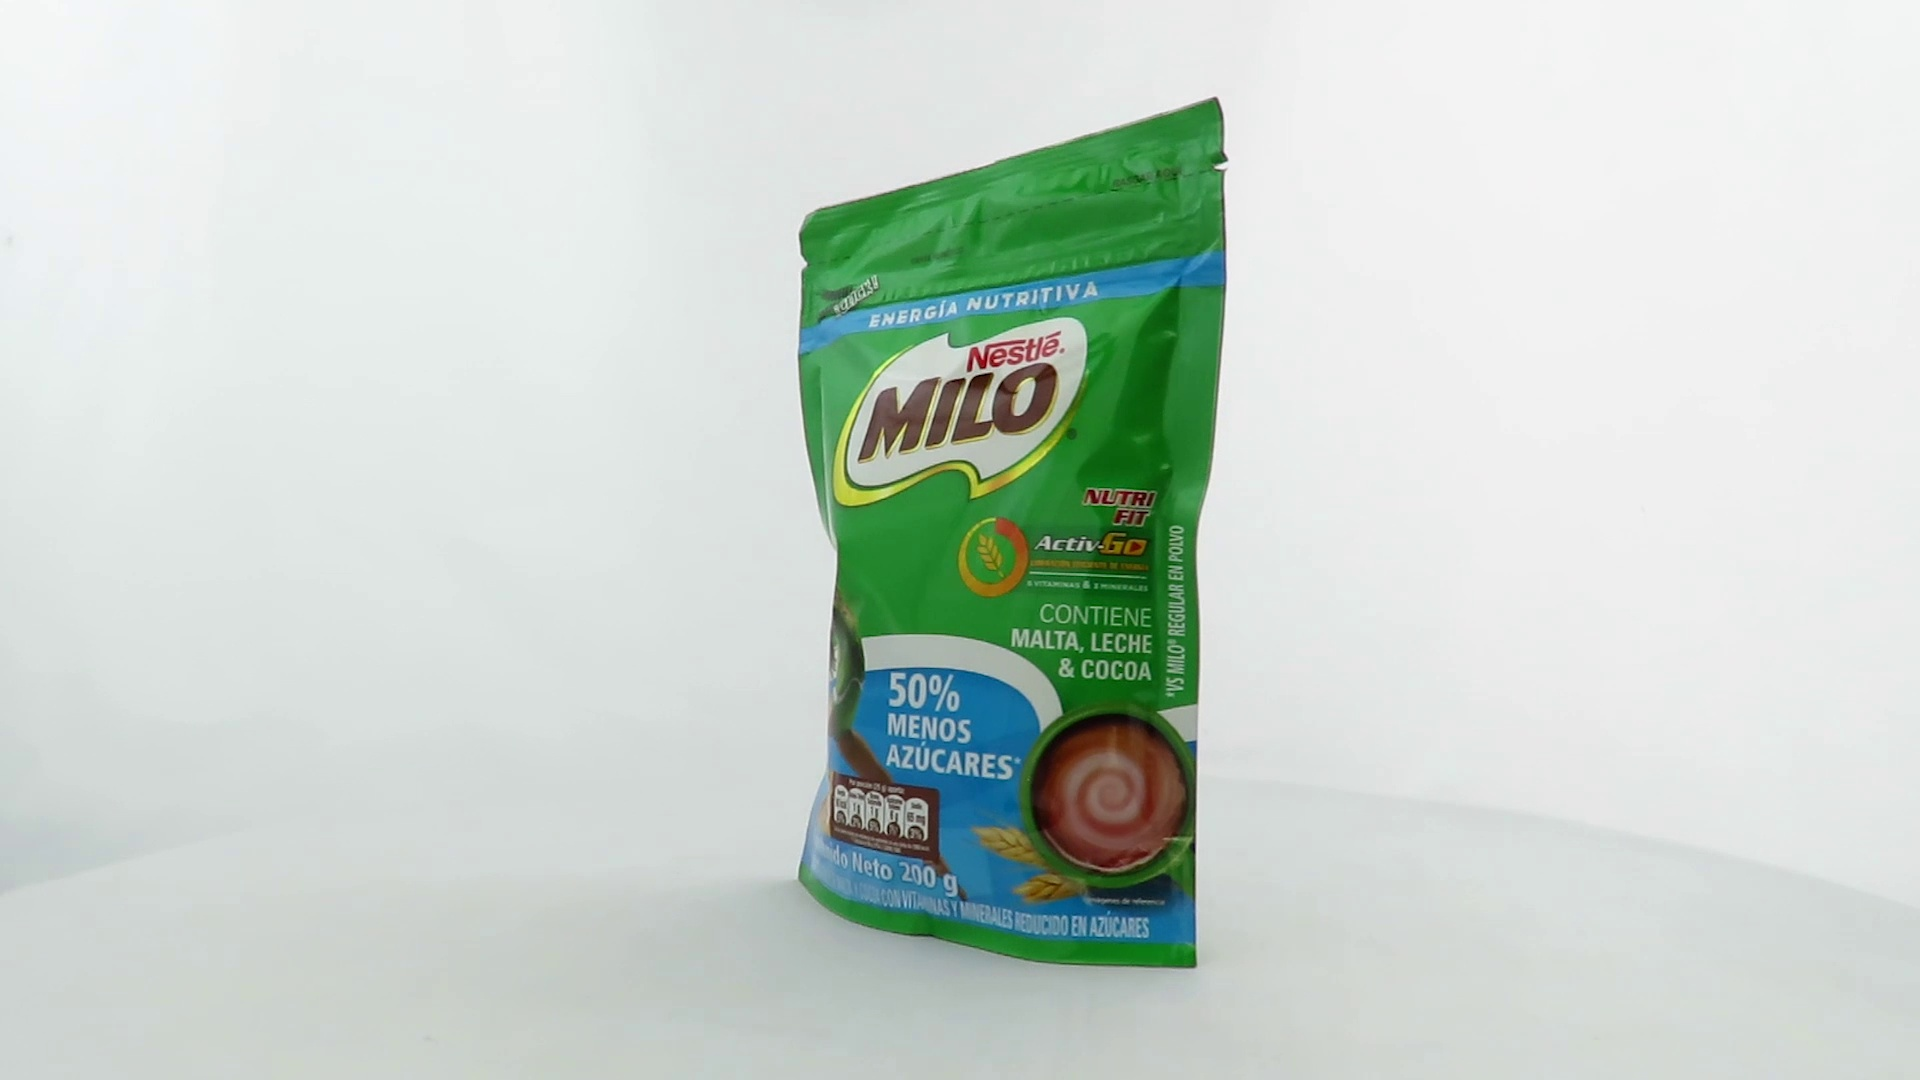COL0170205DYP20000: (793, 92, 1234, 975)
